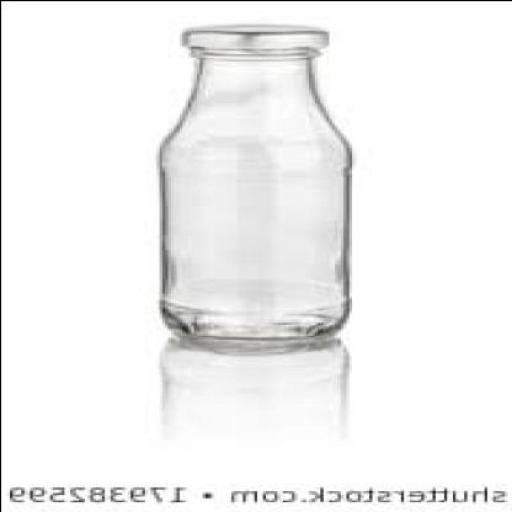glass: (160, 24, 354, 342)
metal: (187, 24, 331, 44)
